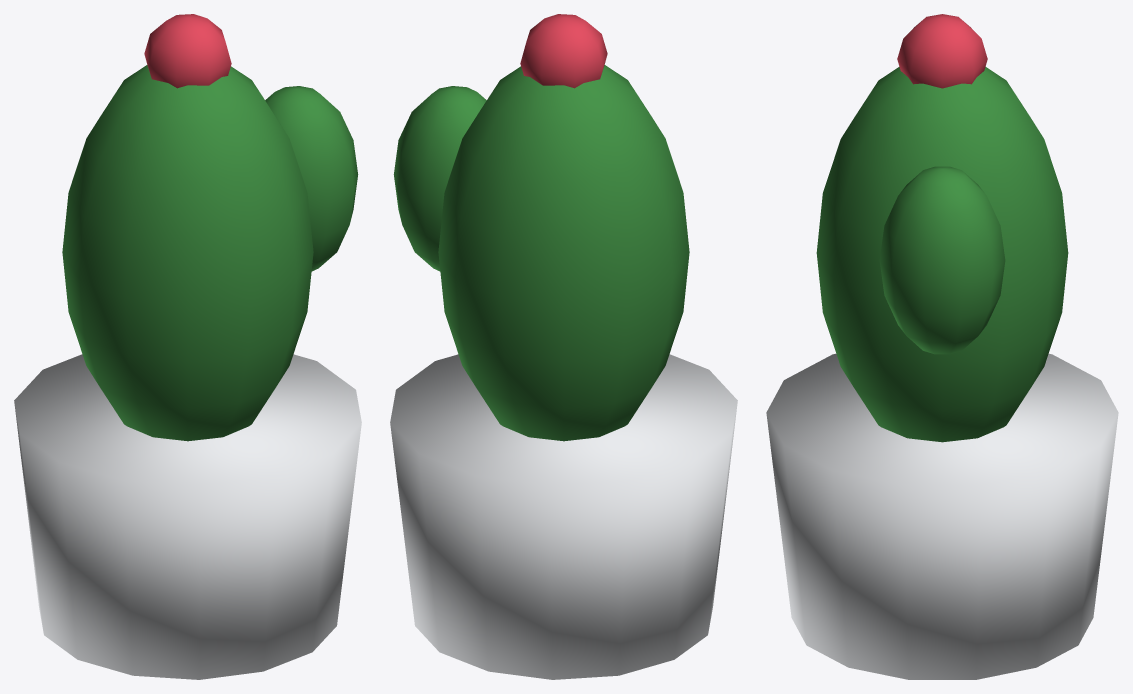
The model's file is Cactus.fbx.
3 renders of one model, left to right at view 1: azimuth 30°, elevation 25°; view 2: azimuth 150°, elevation 25°; view 3: azimuth 270°, elevation 25°, orthographic.
Visible parts, largest first — view 1: Pot.002, Body.002, ArmA, Flower; view 2: Pot.002, Body.002, ArmA, Flower; view 3: Pot.002, Body.002, ArmA, Flower.
Boxes of the visible parts, x1=… form: Pot.002: x1=14, y1=354, x2=361, y2=679; Body.002: x1=62, y1=65, x2=313, y2=441; ArmA: x1=265, y1=86, x2=358, y2=271; Flower: x1=144, y1=14, x2=231, y2=88; Pot.002: x1=390, y1=354, x2=737, y2=679; Body.002: x1=438, y1=65, x2=689, y2=441; ArmA: x1=393, y1=86, x2=486, y2=271; Flower: x1=520, y1=14, x2=607, y2=88; Pot.002: x1=766, y1=353, x2=1118, y2=679; Body.002: x1=816, y1=67, x2=1068, y2=442; ArmA: x1=879, y1=166, x2=1005, y2=354; Flower: x1=897, y1=14, x2=987, y2=88.
Bounding box in the file's own units: 0.142 × 0.263 × 0.14.
